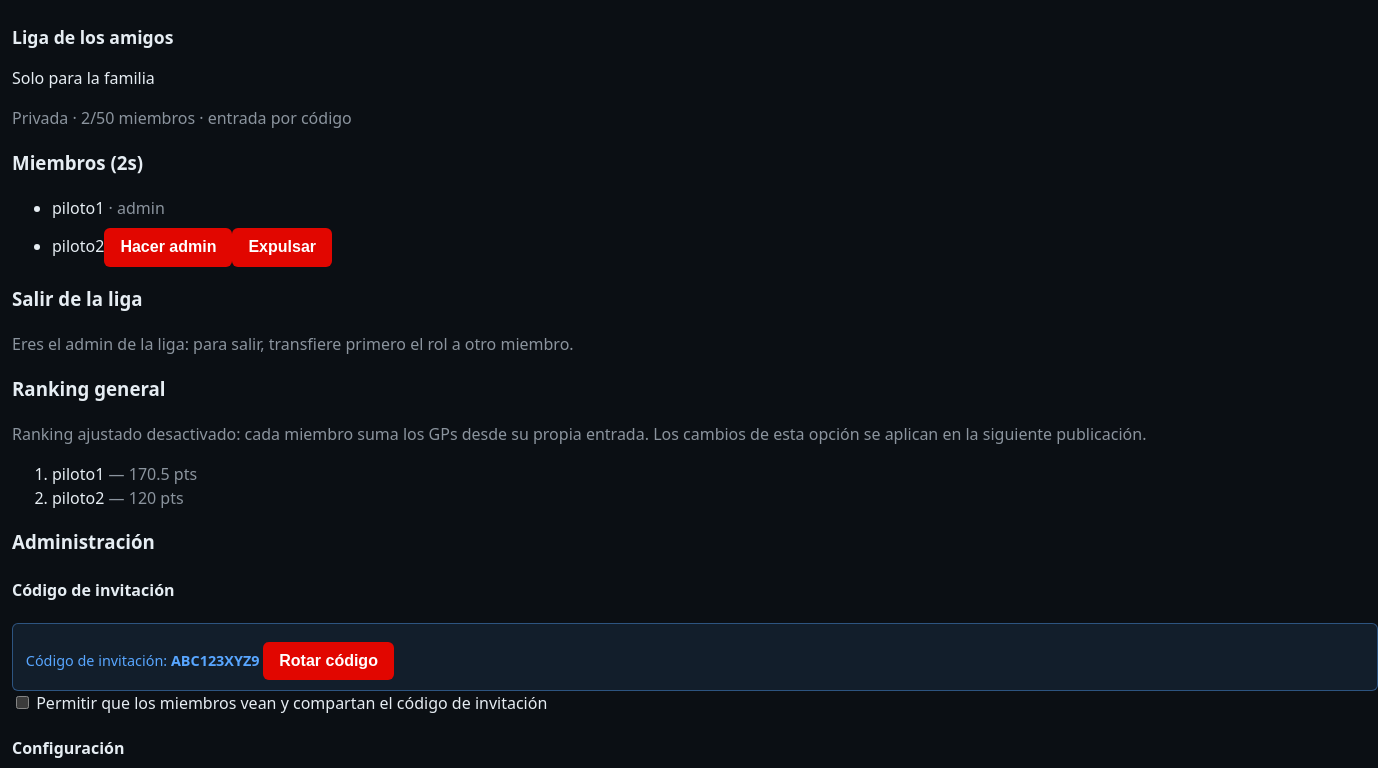
LeagueDetailPage (US-24) › panel de administración (US-26, leagues.md §5) › si una acción de gestión falla muestra el motivo del servidor (p. ej. 403)
Step 1. Click the button "Expulsar" → (282, 247), box [232,228,332,267]
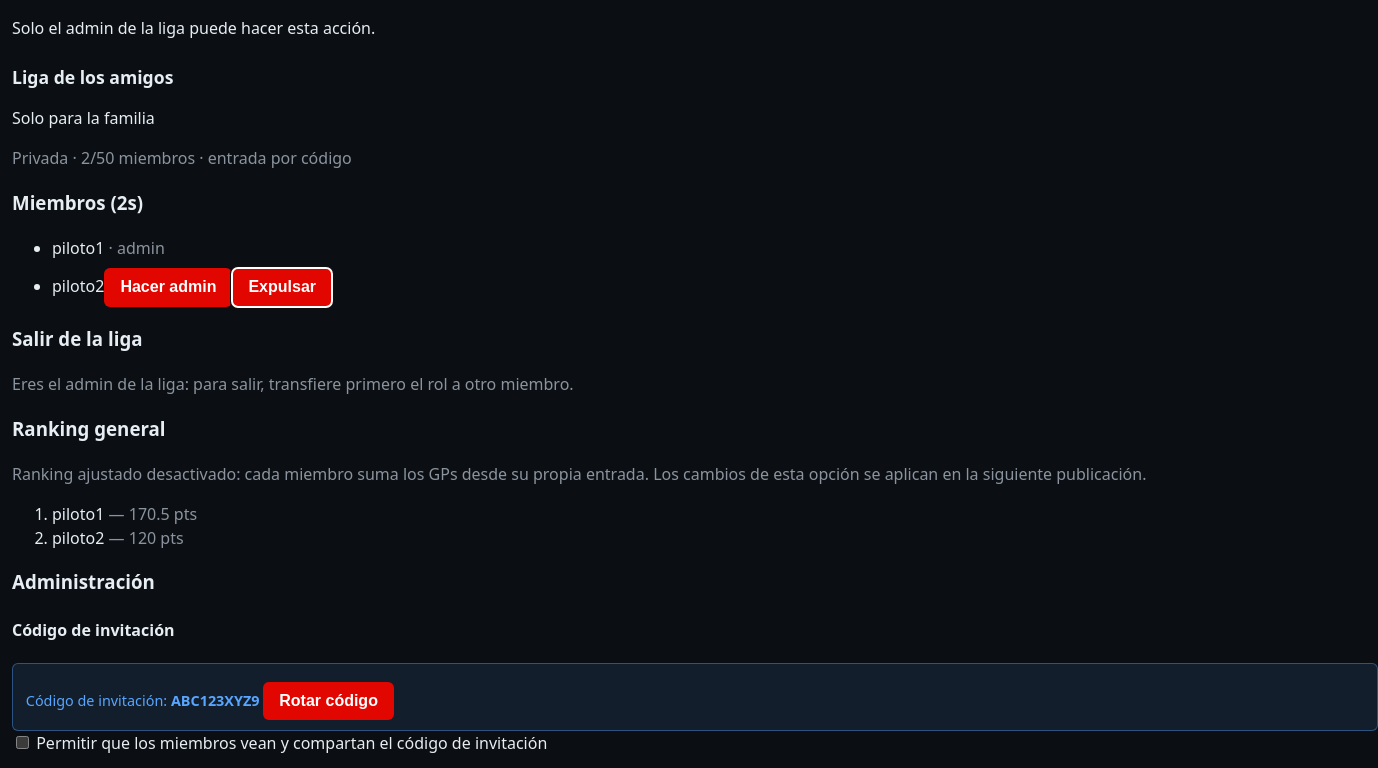
Result: the text "Solo el admin de la liga puede hacer esta acción." is shown at [12,17,375,39]
